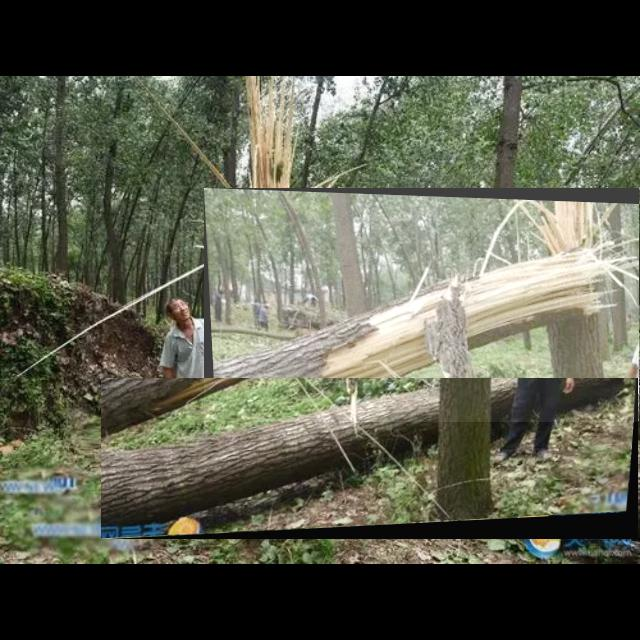Fallen Tree: (204, 188, 640, 422), (101, 378, 639, 540)
